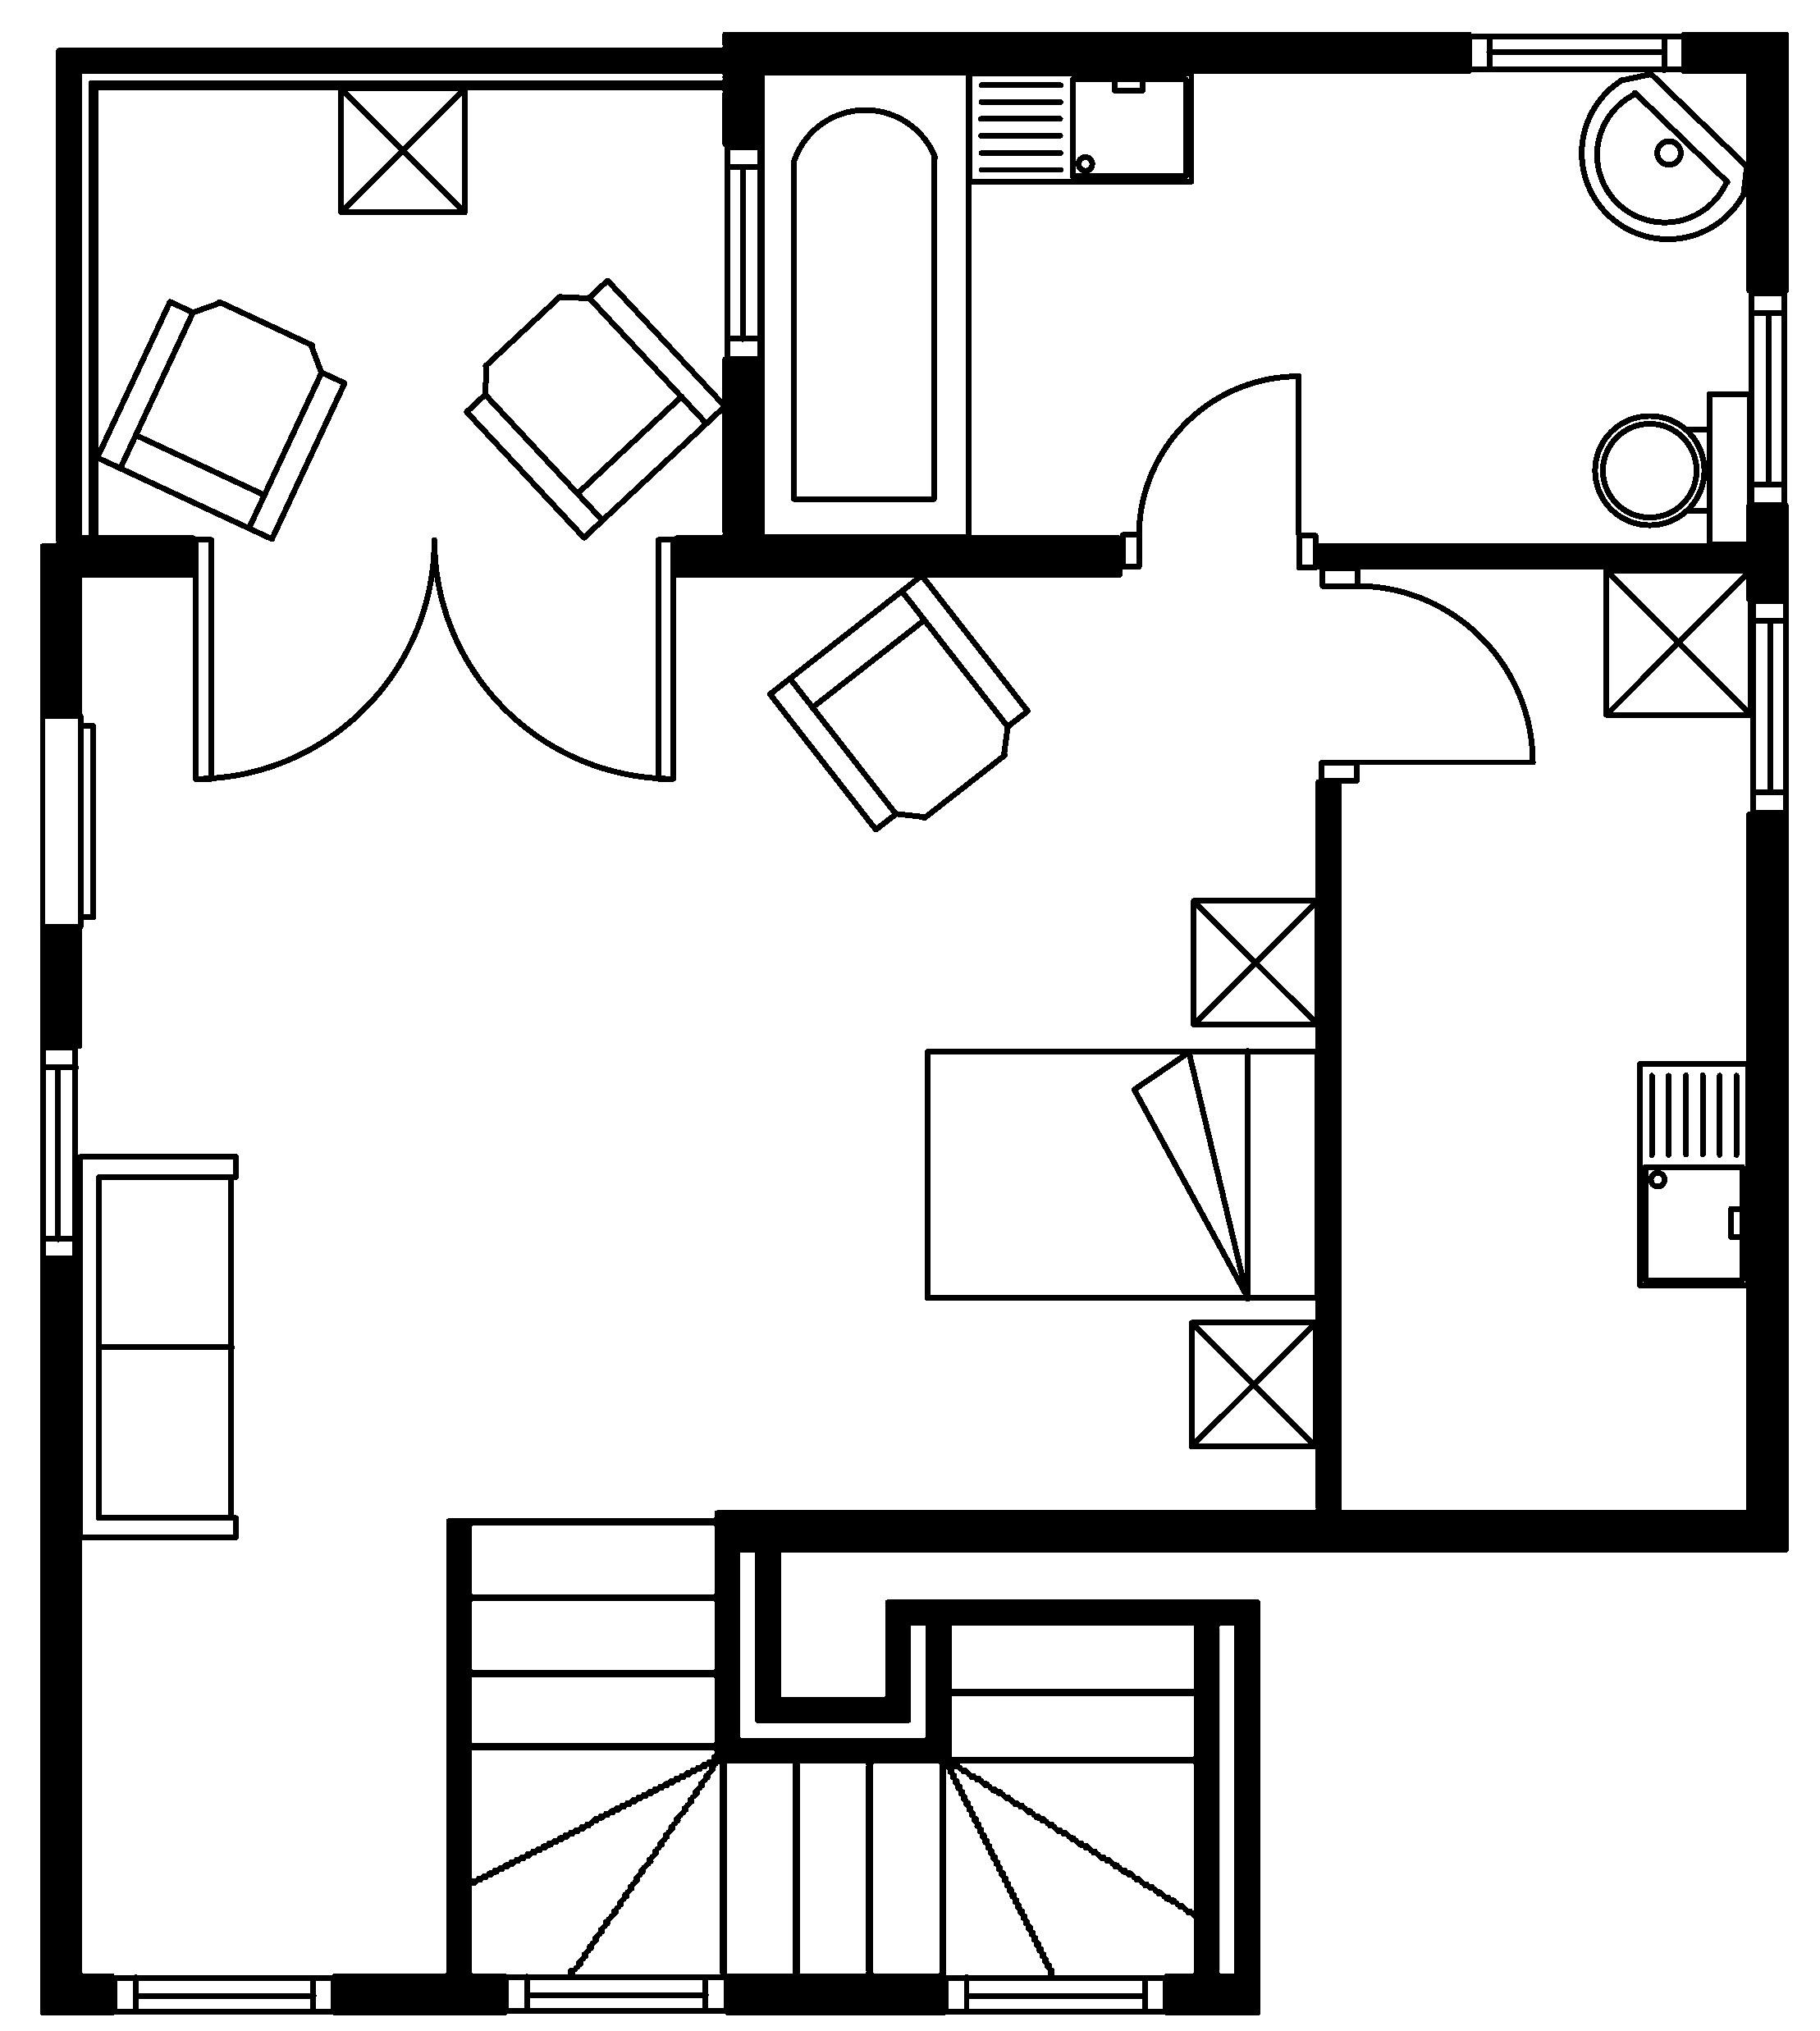armchair: (462, 276, 727, 541), (766, 571, 1031, 833), (93, 297, 348, 543)
bed: (922, 1047, 1321, 1302)
coffee_table: (1602, 566, 1753, 719), (1186, 1318, 1319, 1449), (1189, 896, 1321, 1028), (337, 84, 467, 214)
large_sink: (1592, 388, 1753, 548)
large_sofa: (76, 1153, 239, 1541)
sink: (964, 69, 1195, 184), (1636, 1059, 1751, 1288)
small_sink: (1578, 70, 1750, 241)
tub: (757, 69, 971, 539)
